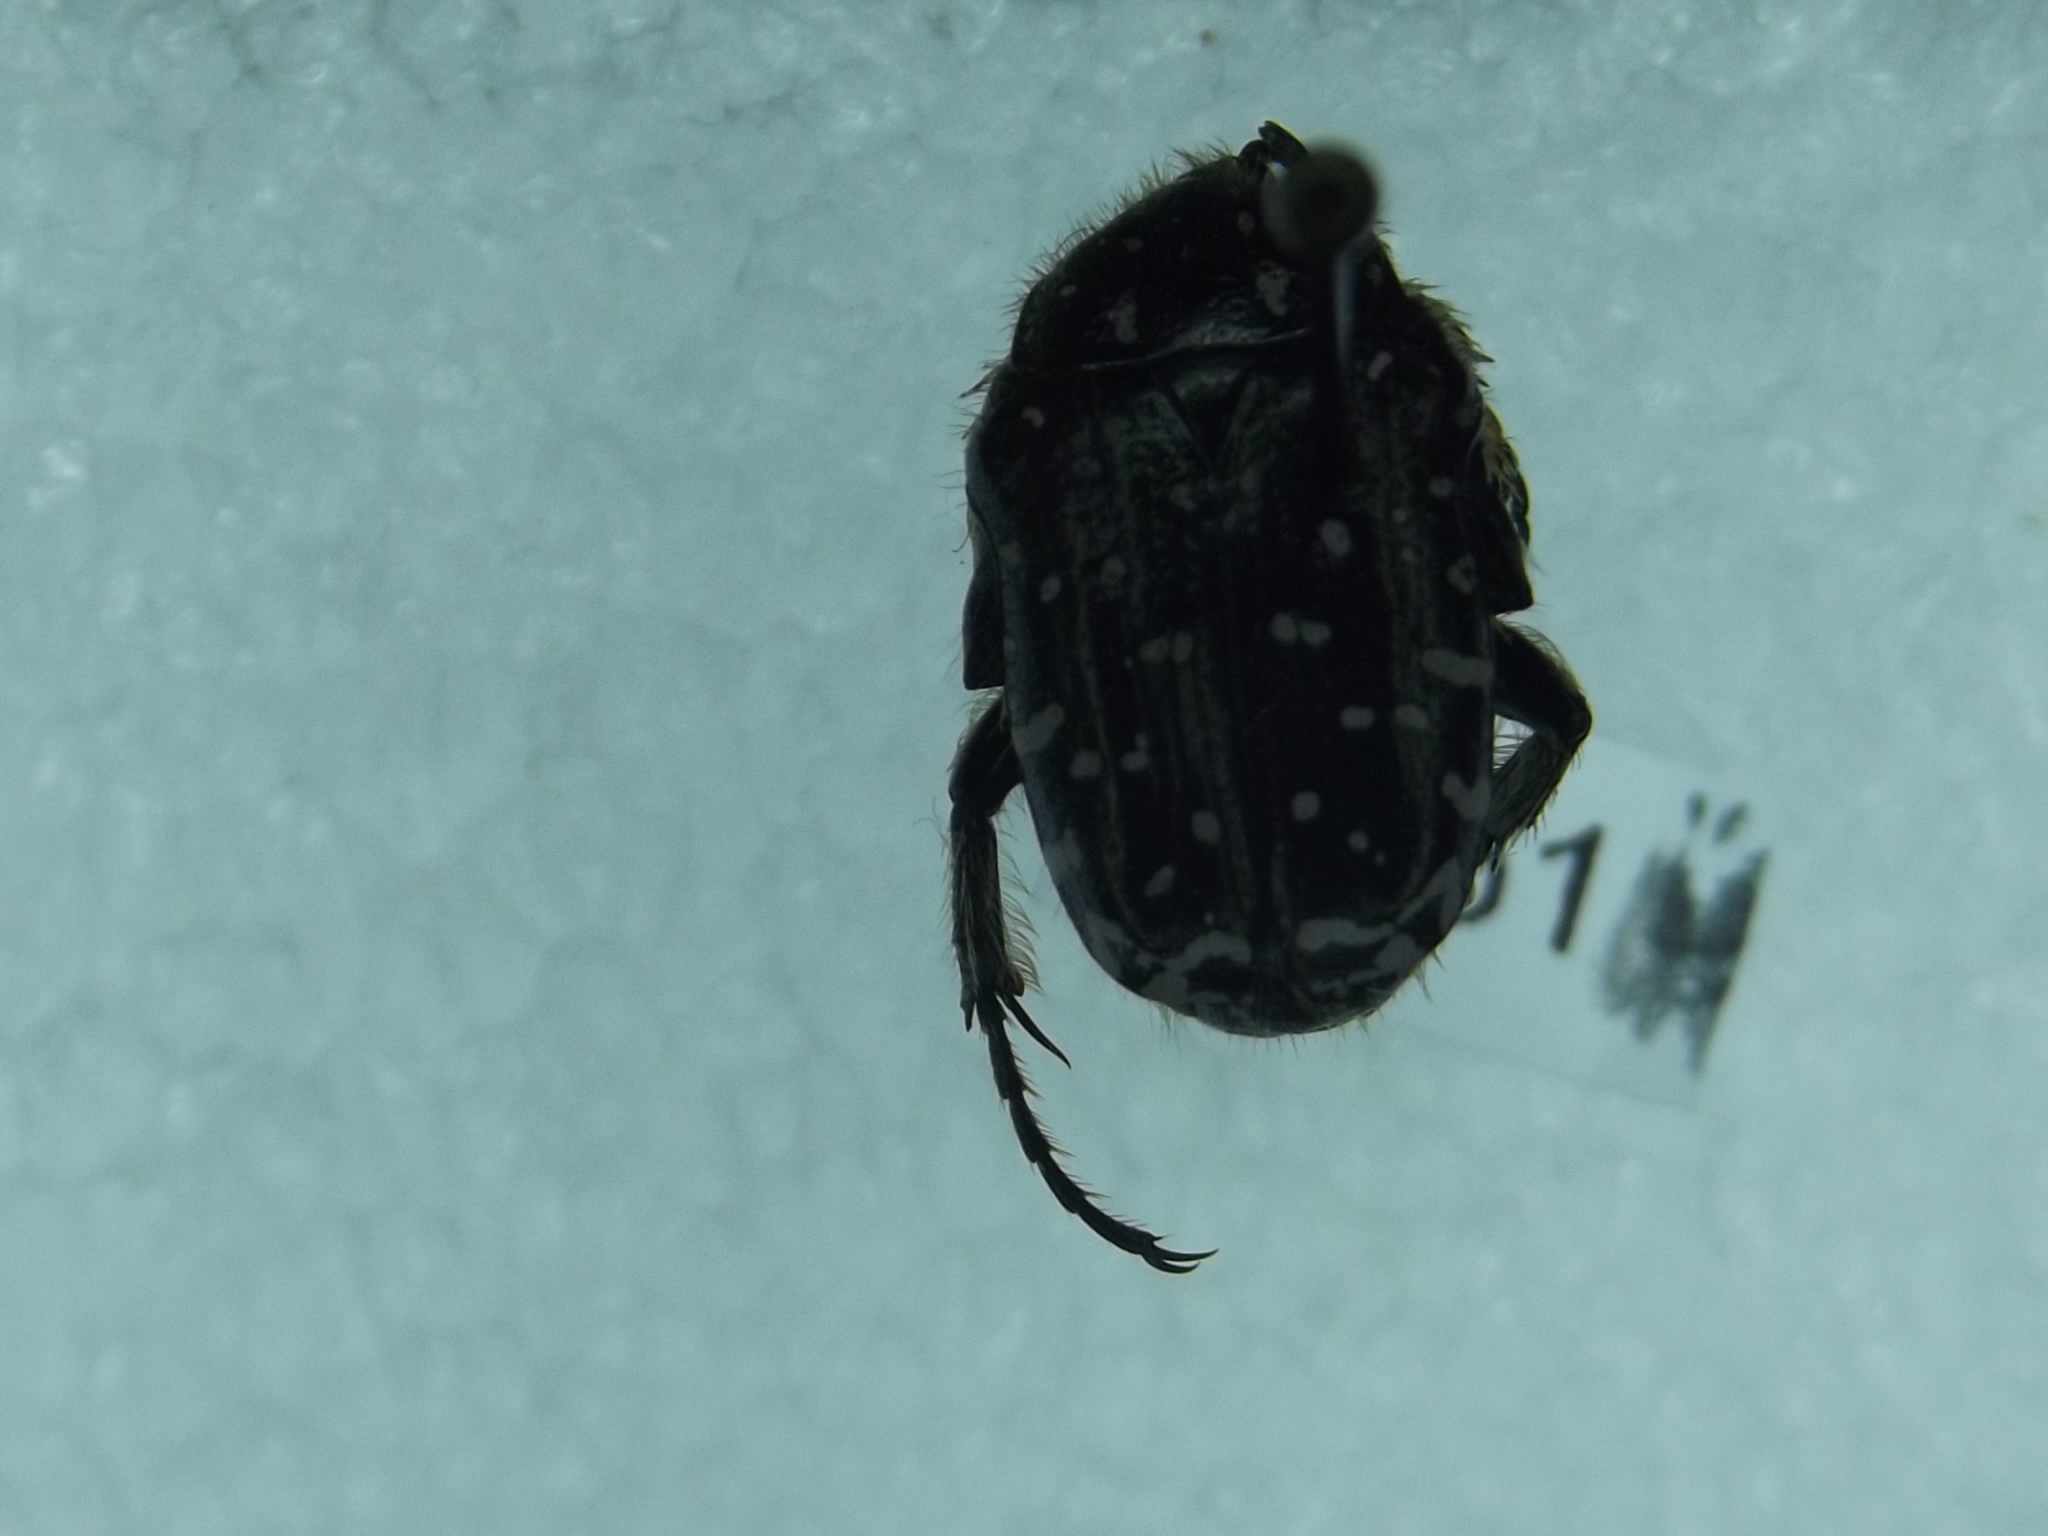Oxythyrea_funesta: (871, 94, 1593, 1321)
